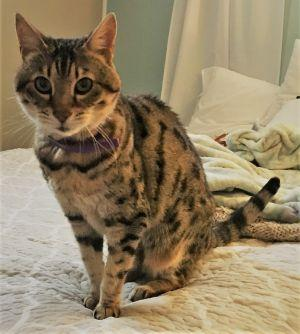bengal: (1, 1, 132, 143)
